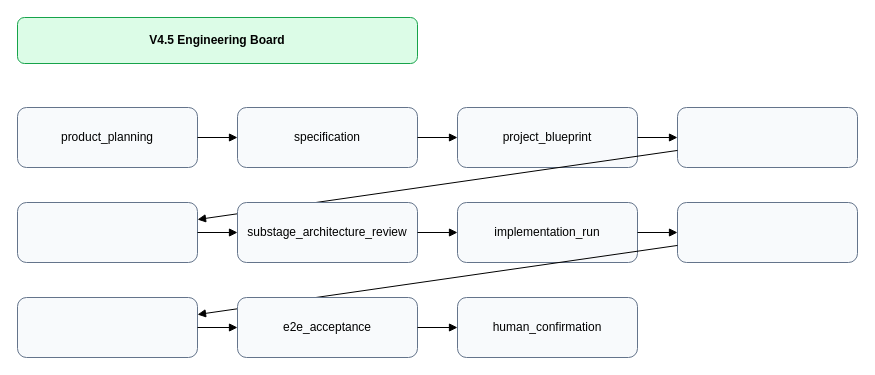
Image size: 875x375. Some labels were removed from this diagram. The centre of each missing label's shape, as x and y in pixels:
"architecture_review" belongs at point 767,137.
"code_review" belongs at point 107,327.
"development_acceptance" belongs at point 767,232.
"substage_plan_audit" belongs at point 107,232.
